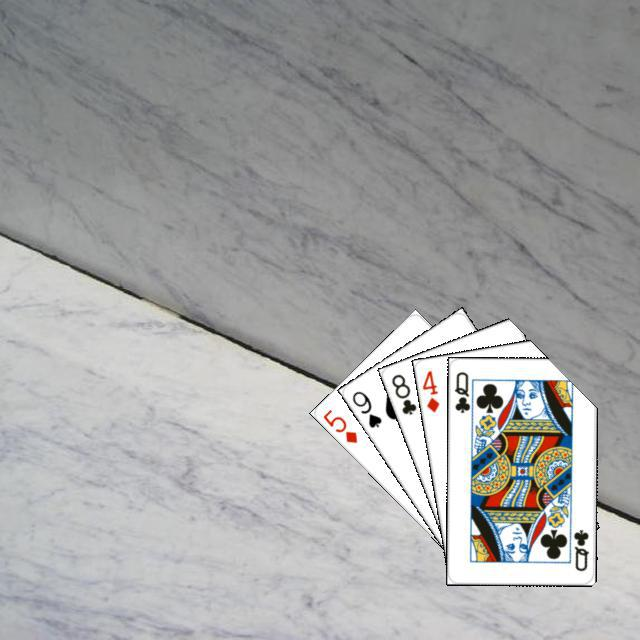4d: (418, 366, 441, 414)
5d: (318, 404, 359, 445)
8c: (386, 369, 418, 416)
9s: (347, 386, 383, 430)
Qc: (450, 367, 477, 419), (569, 525, 590, 572)
